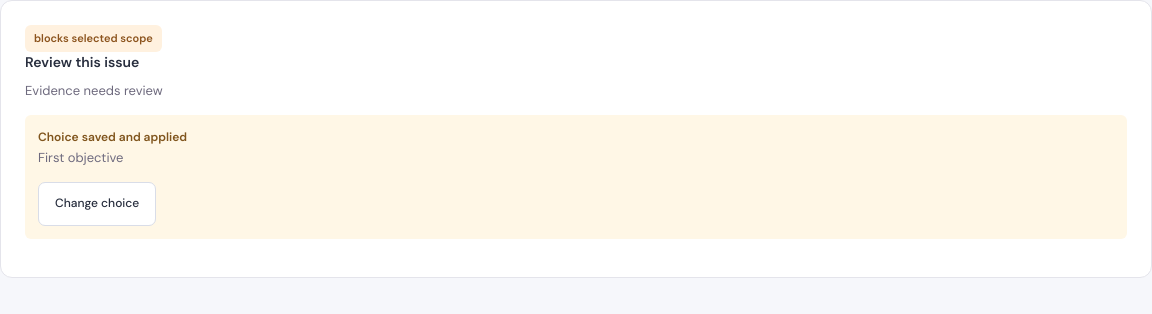
Test case: allows revising a saved choice and preserves multiple selections
Later steps or results of the test are not shown.
Click the button "Change choice".
click(97, 204)  # box [38, 182, 156, 226]
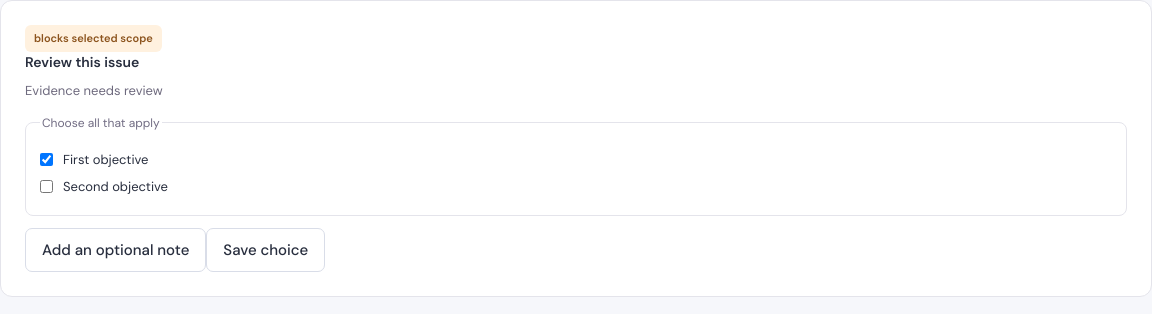
Check: the checkbox labelled "First objective" is checked, box [40, 153, 53, 166]
